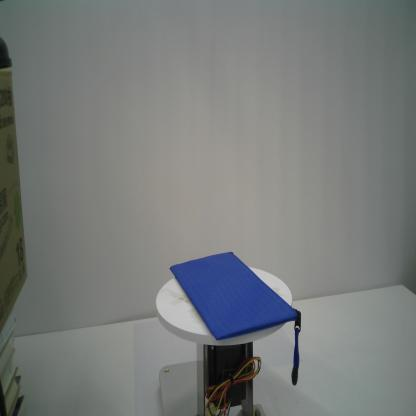Stationery: (168, 249, 303, 388)
